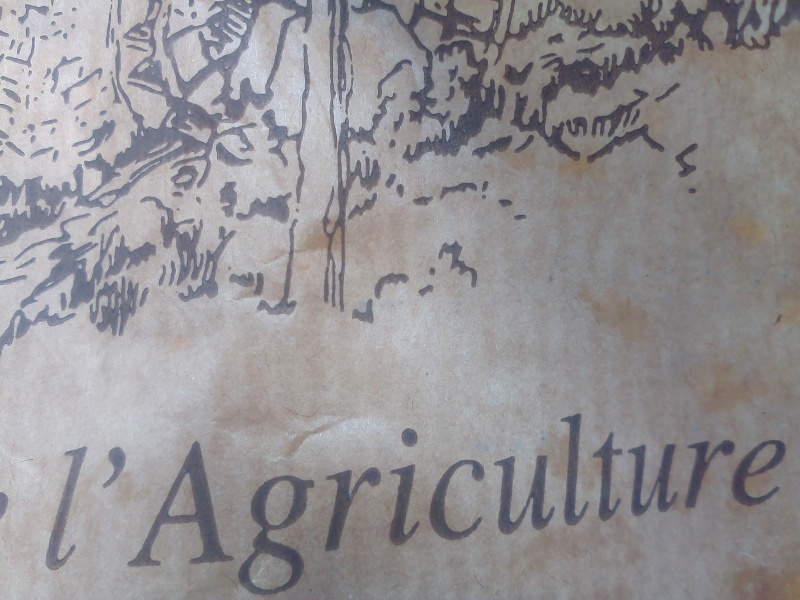text: (65, 403, 80, 597), (81, 403, 96, 597), (97, 403, 112, 597), (113, 403, 128, 597), (129, 403, 144, 597), (145, 403, 160, 597), (161, 403, 176, 597), (177, 403, 192, 597), (193, 403, 208, 597), (209, 403, 224, 597), (225, 403, 240, 597), (241, 403, 256, 597), (257, 403, 272, 597), (273, 403, 288, 597), (289, 403, 304, 597), (305, 403, 320, 597), (321, 403, 336, 597), (337, 403, 352, 597), (353, 403, 368, 597), (369, 403, 384, 597), (385, 403, 400, 597), (401, 403, 416, 597), (417, 403, 432, 597), (433, 403, 448, 597), (449, 403, 464, 597), (465, 403, 480, 597), (481, 403, 496, 597), (497, 403, 512, 597), (513, 403, 528, 597), (529, 403, 544, 597), (545, 403, 560, 597), (561, 403, 576, 597), (577, 403, 592, 597), (593, 403, 608, 597), (609, 403, 624, 597), (625, 403, 640, 597), (641, 403, 656, 597), (657, 403, 672, 597), (673, 403, 688, 597), (689, 403, 704, 597), (705, 403, 720, 597), (721, 403, 736, 597), (737, 403, 752, 597), (753, 403, 768, 597), (769, 403, 784, 597), (785, 403, 788, 597)
